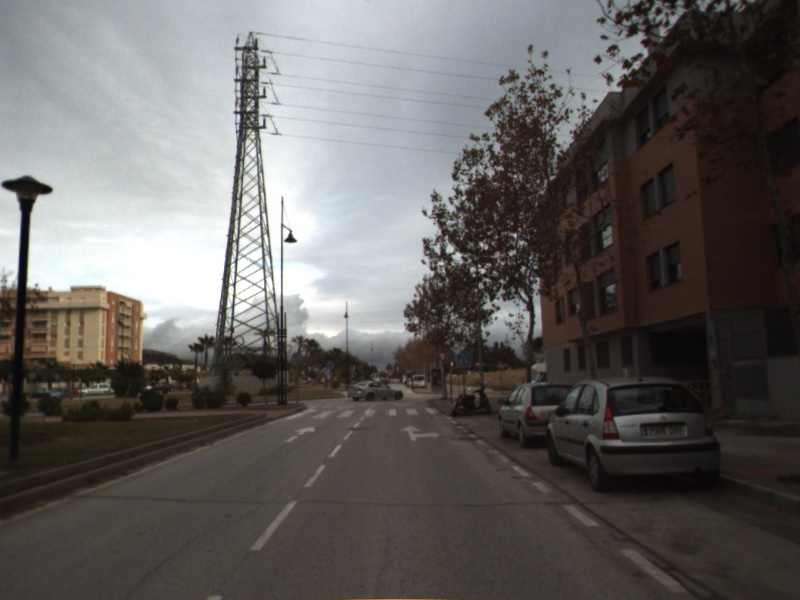STRAIGHT: (283, 424, 317, 444)
STRAIGHT_RIGHT: (398, 423, 442, 443)
